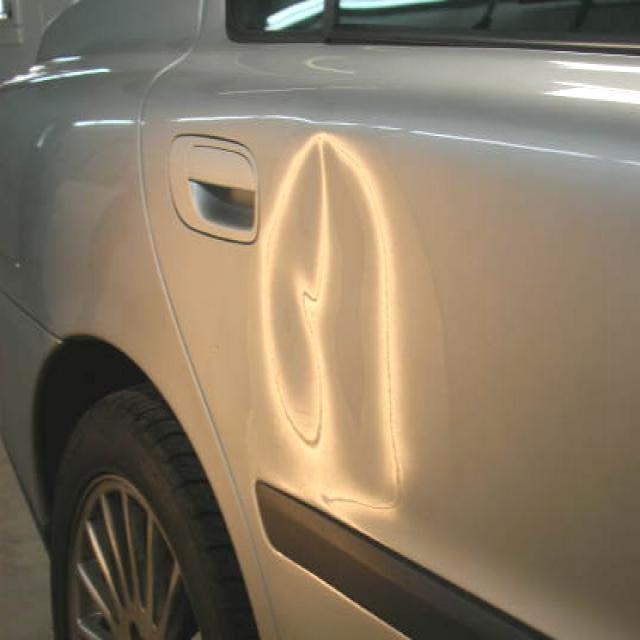minor: (243, 120, 432, 546)
